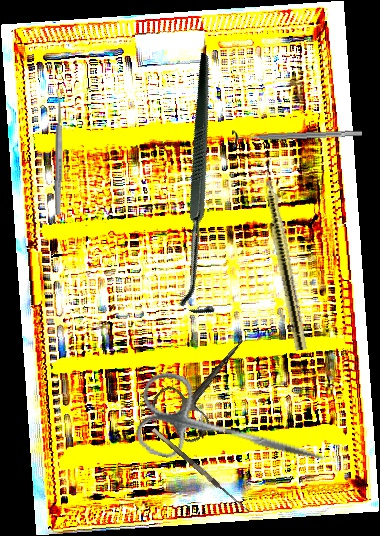Fixation Ring: (231, 122, 363, 151)
Handpiece: (258, 157, 310, 352)
Hook Surgical: (84, 52, 326, 322), (151, 422, 255, 514)
Iris Scissors: (129, 368, 337, 495), (146, 320, 267, 448)
Surgical Spoon: (53, 88, 65, 216)
